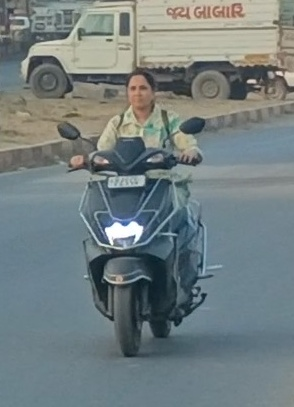BikeWithRider: (49, 63, 229, 361)
NoHelmet: (118, 65, 163, 113)
